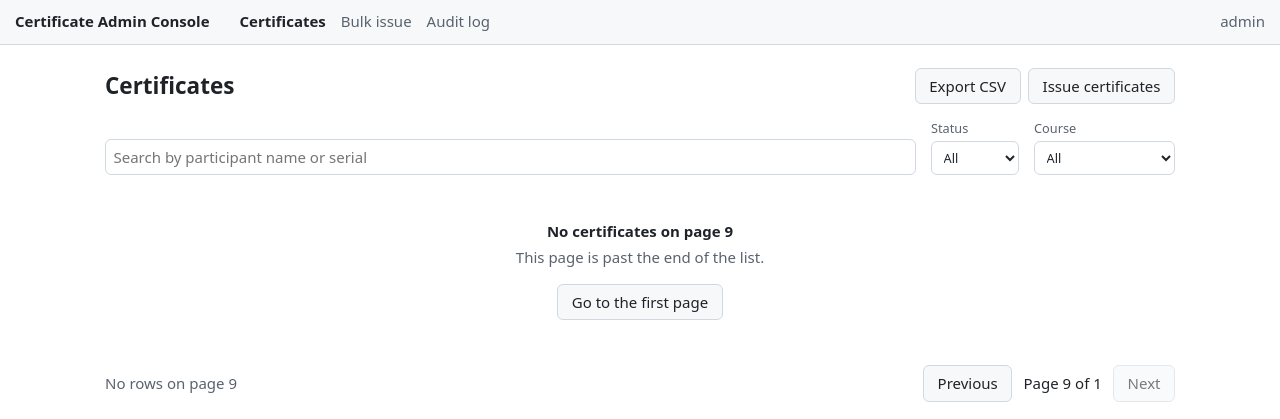
Scenario: CertificateListPage › offers the first page when the URL is past the end
Expected: the text "No certificates on page 9" is shown, [547,221,733,241]
Step 1. Click the button "Go to the first page" → (640, 302), box [557,284,723,320]
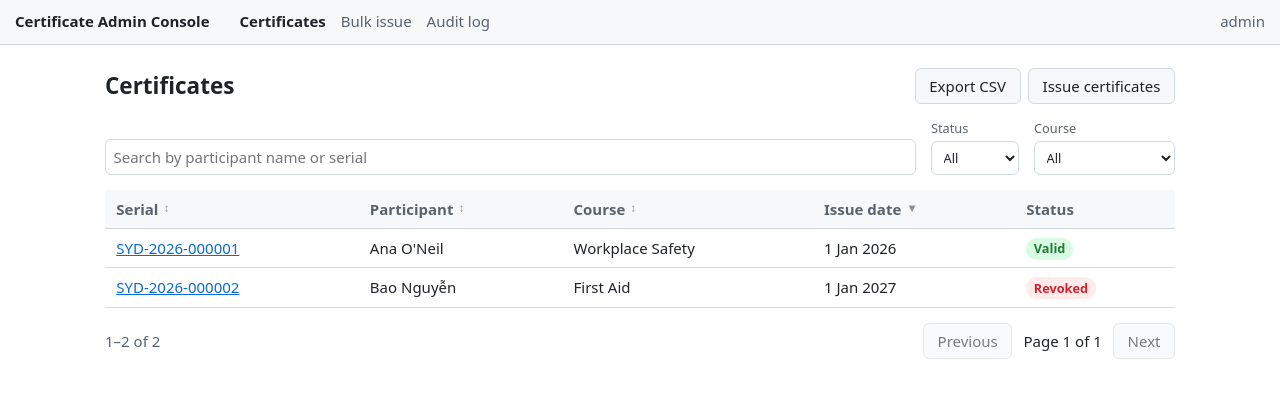
Expected: the table is shown, [105,190,1175,308]
